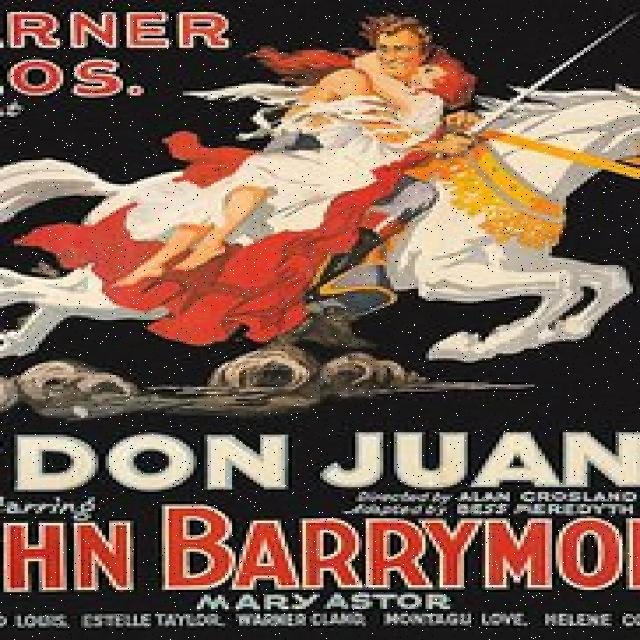movie-judul: (24, 422, 640, 637)
picture: (4, 29, 633, 373)
